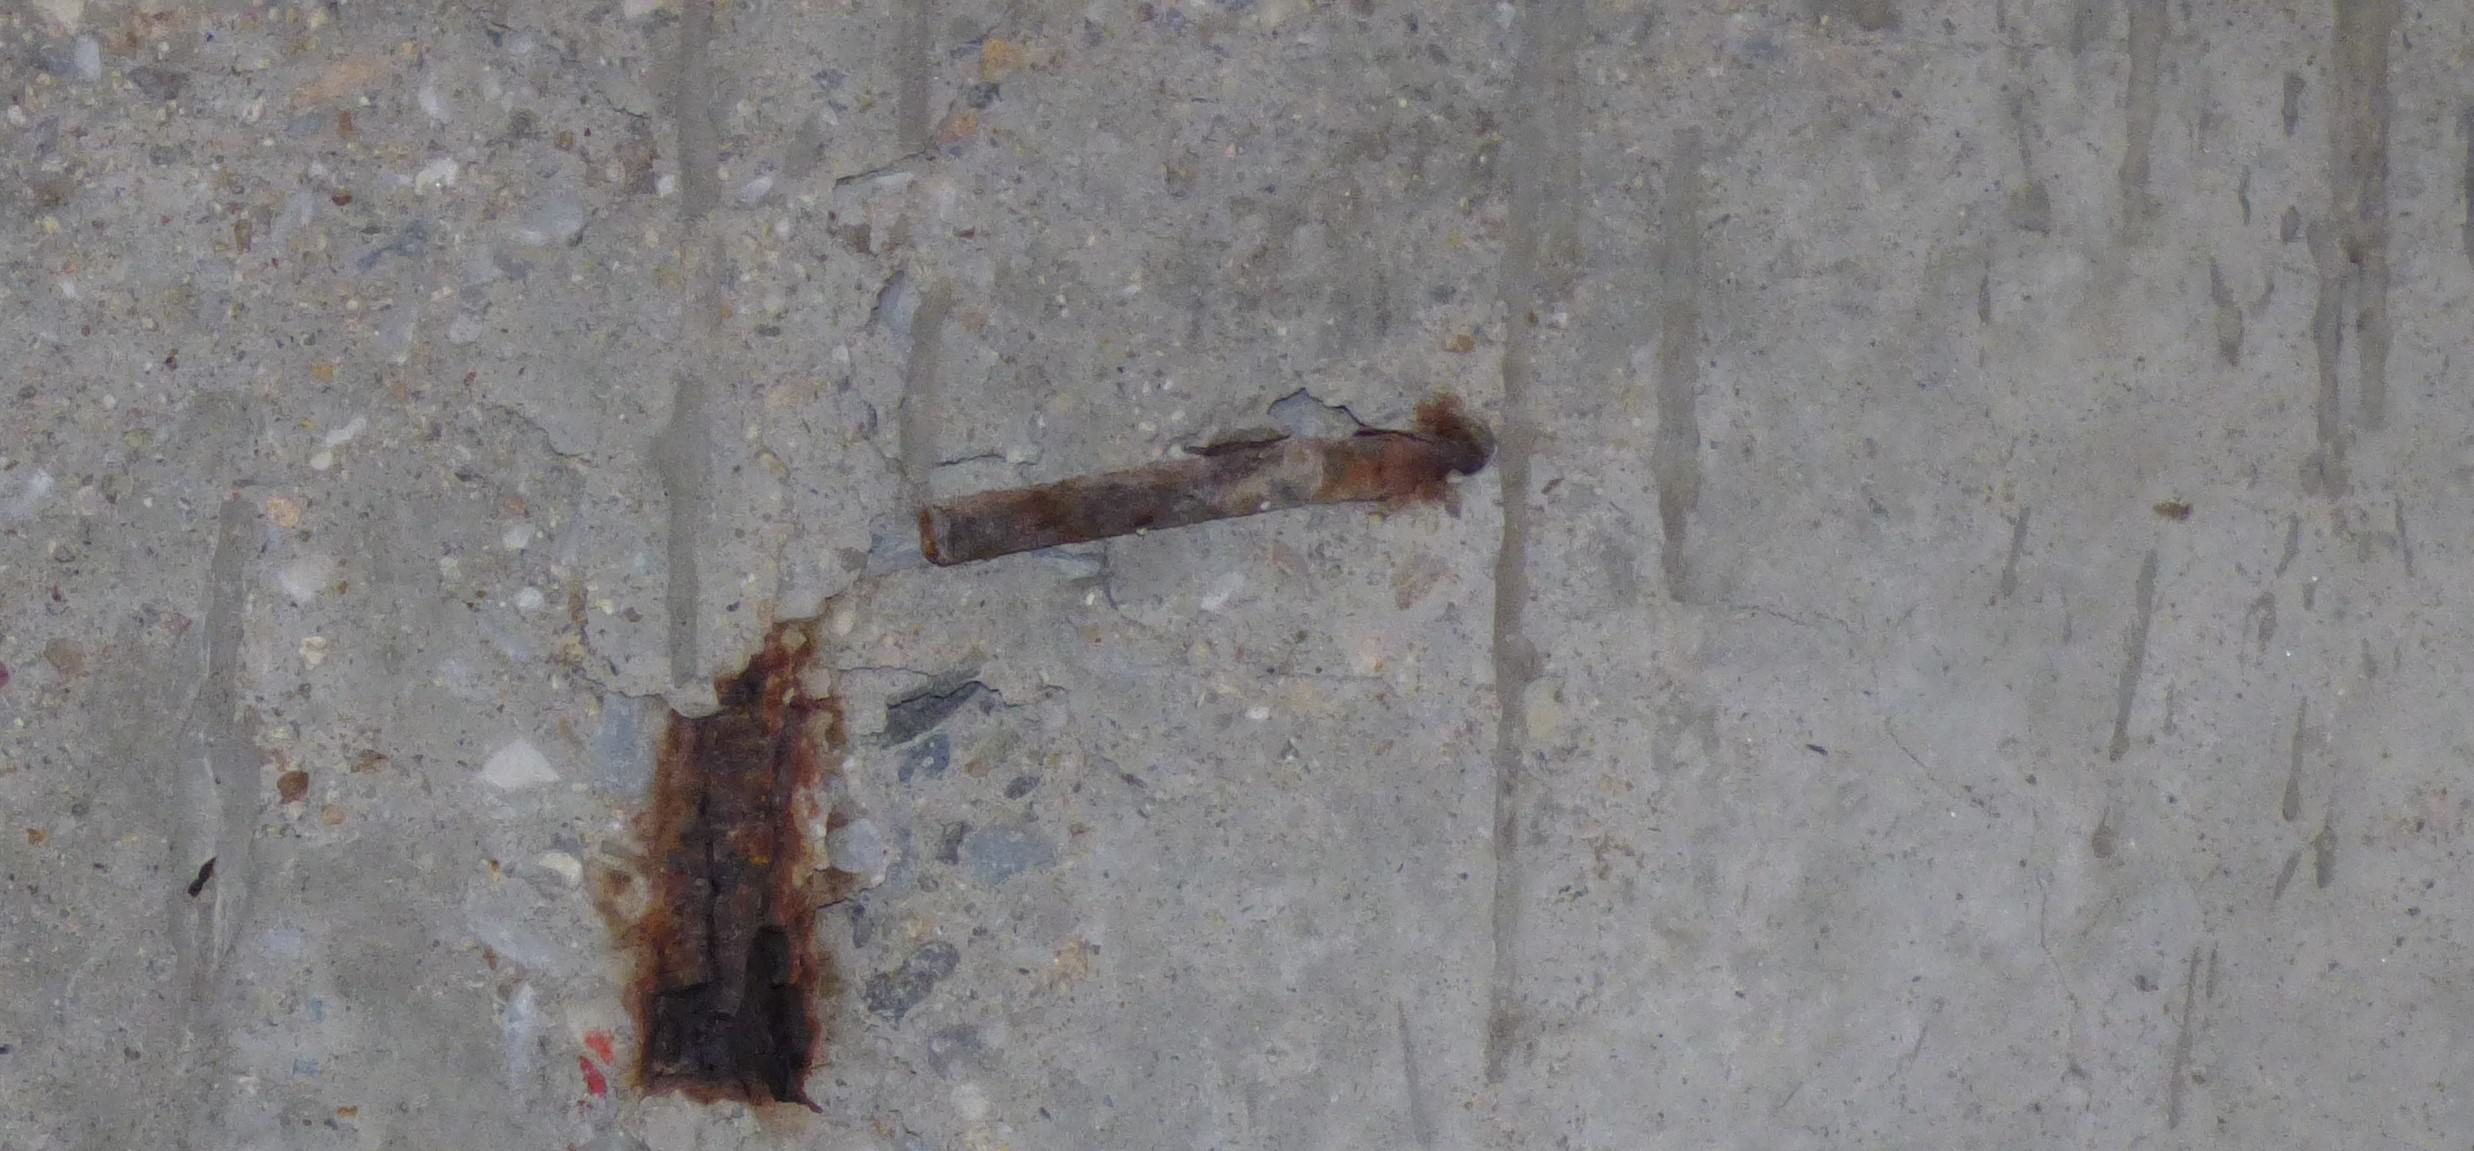Corrosion: (630, 616, 813, 1100)
Exposed reinforcement: (918, 433, 1483, 568)
